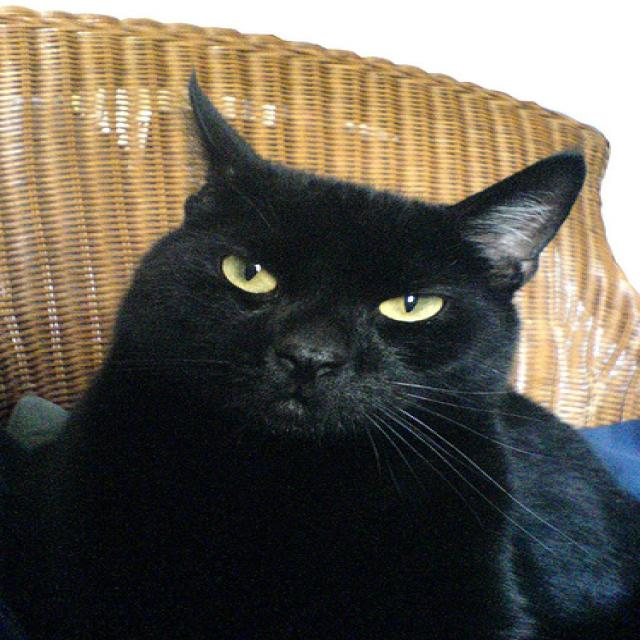cat: (1, 67, 639, 638)
